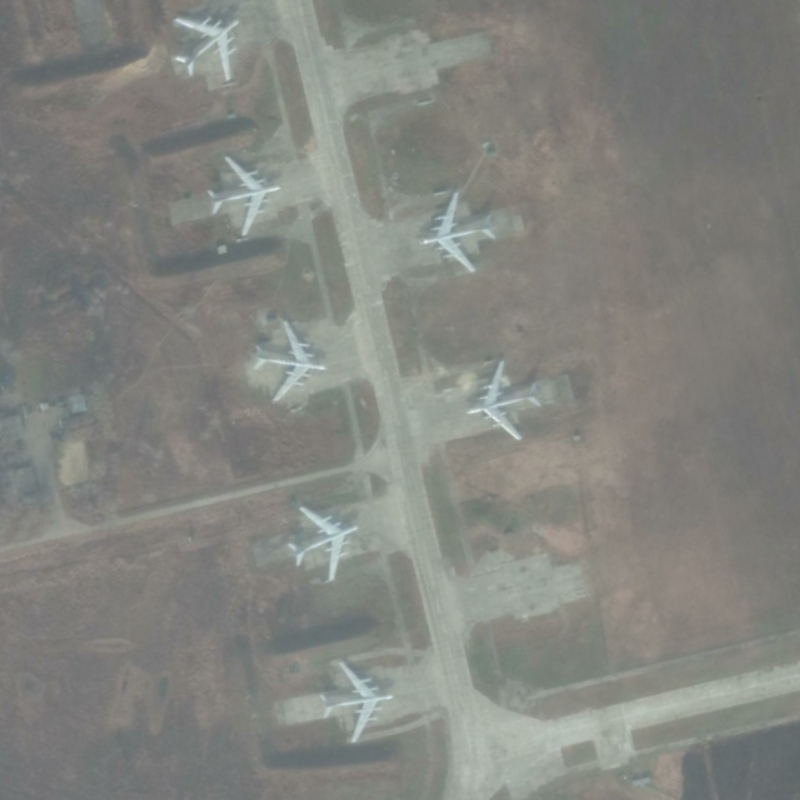A17: (418, 190, 498, 273), (464, 358, 543, 442), (317, 660, 395, 745), (251, 319, 328, 404), (206, 154, 283, 238), (286, 505, 360, 582), (172, 14, 240, 83)
